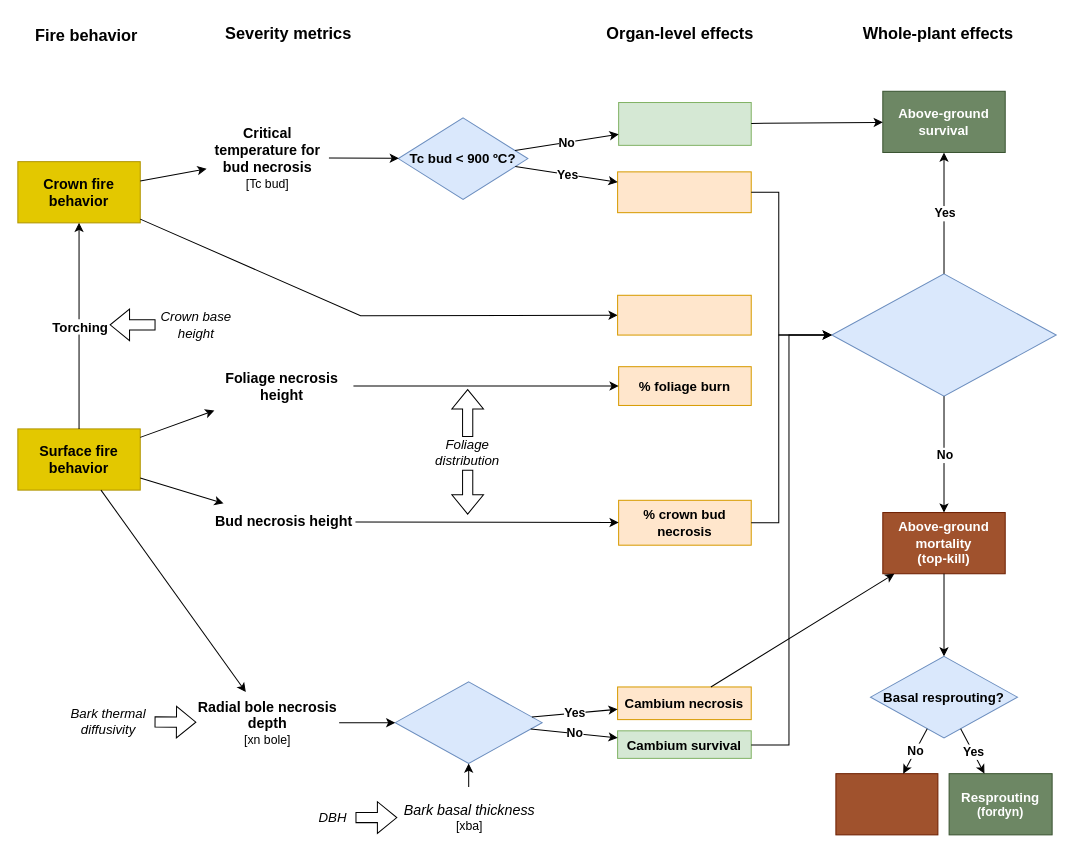
The diagram is 1074 pixels wide and 865 high, and some of its shapes have lost their labels. Each missing label, with the centre of its shape:
"100% bud necrosis BUT cambium survival AND epicormic resprouting?" goes at pixel 943 334.
"100% crown bud necrosis" goes at pixel 684 192.
"100% foliage burn" goes at pixel 684 314.
"Crown bud survival" goes at pixel 684 123.
"Plant mortality" goes at pixel 886 804.
"xn bole > xba?" goes at pixel 468 722.
